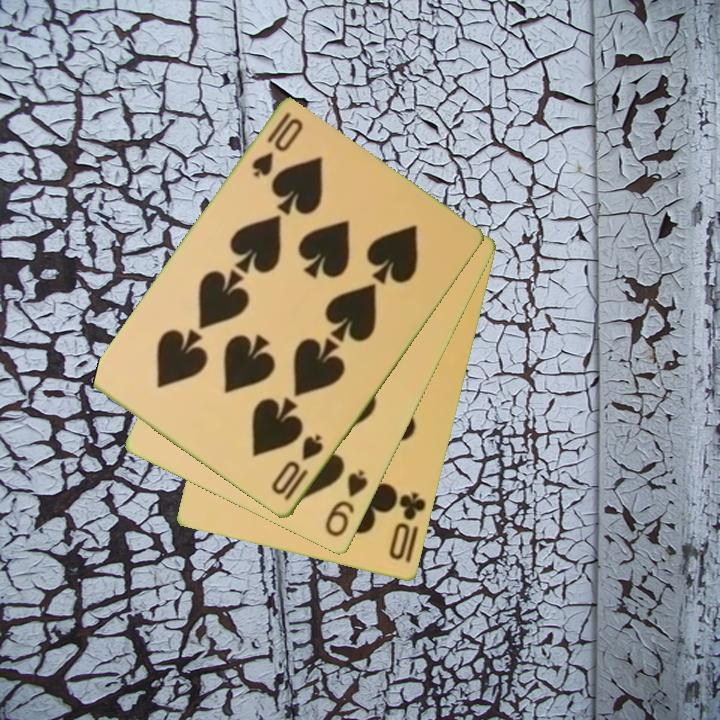10c: (385, 489, 429, 564)
10s: (267, 431, 326, 504), (248, 108, 307, 181)
9s: (321, 467, 371, 541)
